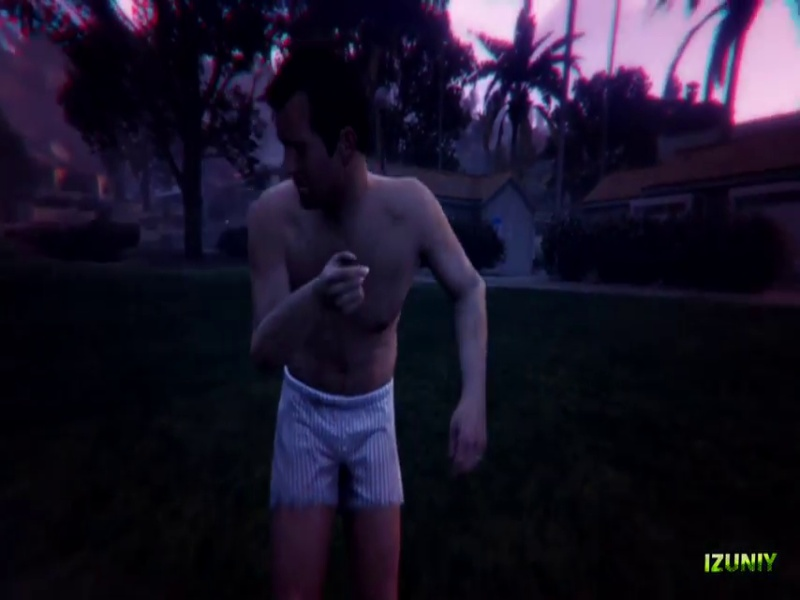human: (246, 57, 493, 595)
